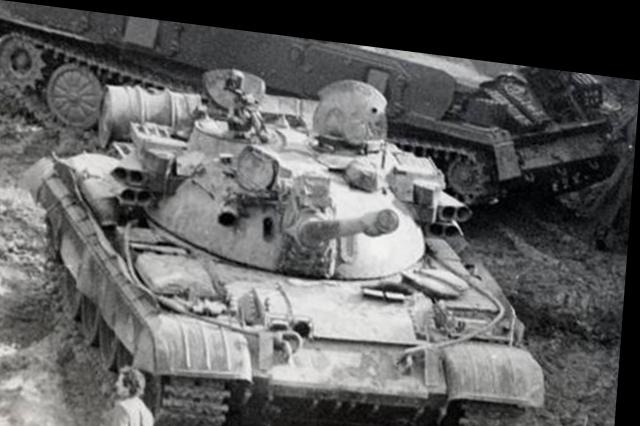tank: (51, 89, 559, 424), (0, 1, 633, 194)
